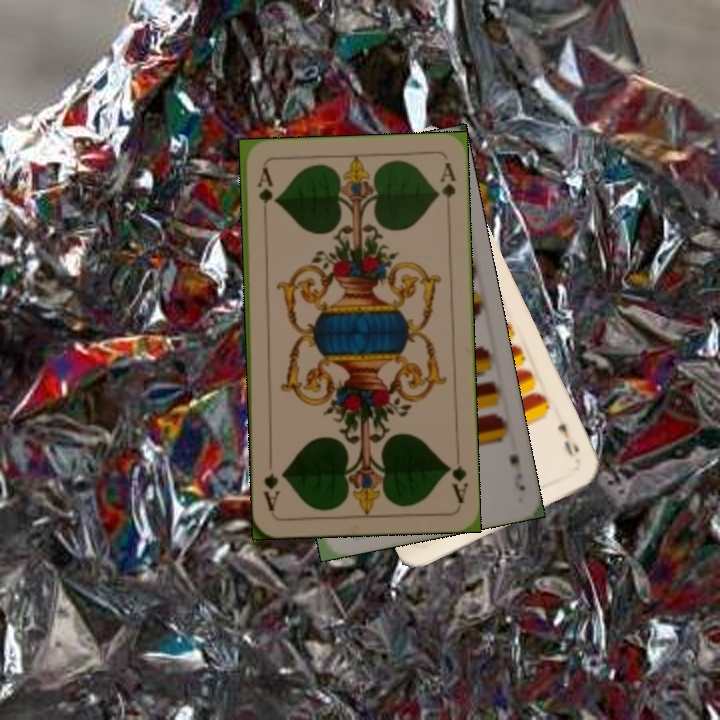E7: (506, 450, 528, 494)
E9: (553, 419, 582, 460)
GA: (443, 447, 471, 506), (253, 163, 275, 222)
